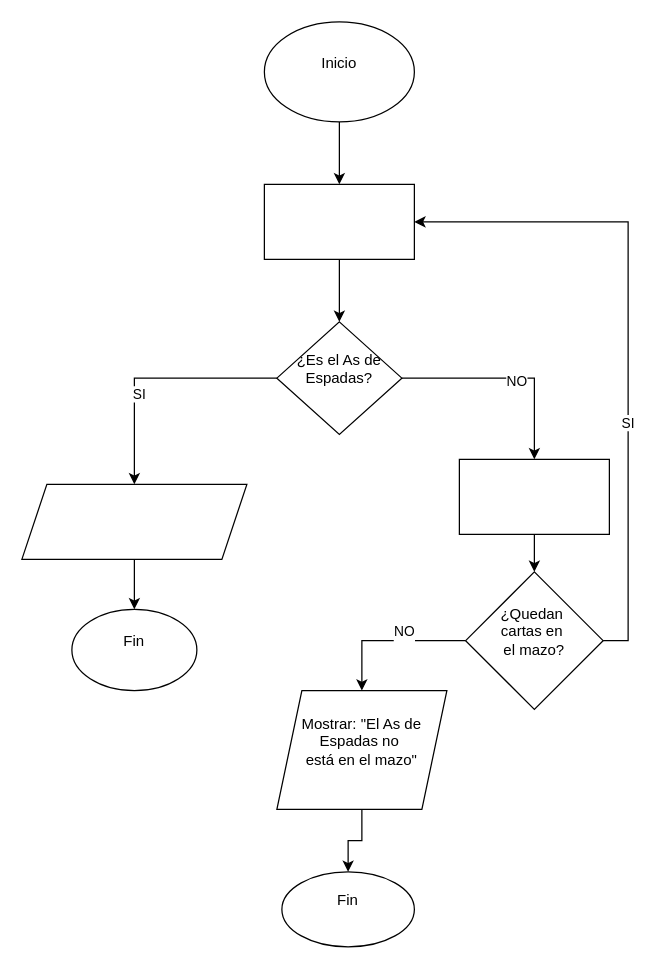
This 660x969 diagram has some shape labels left out. The shapes that lost their labels are listed below. From the top down, each one's centre as x and y in pixels, then its label:
the point at 338,221: Tomar una carta del mazo
the point at 533,496: Descartar carta
the point at 134,521: Mostrar: "As de Espadas encontrado"
